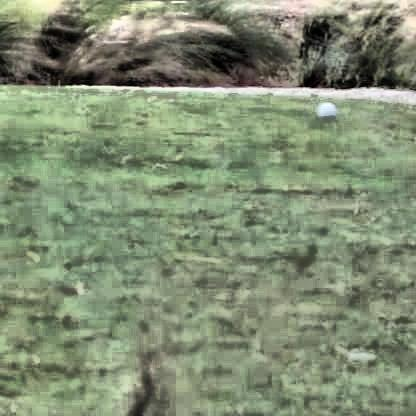golfball: (315, 99, 335, 119)
